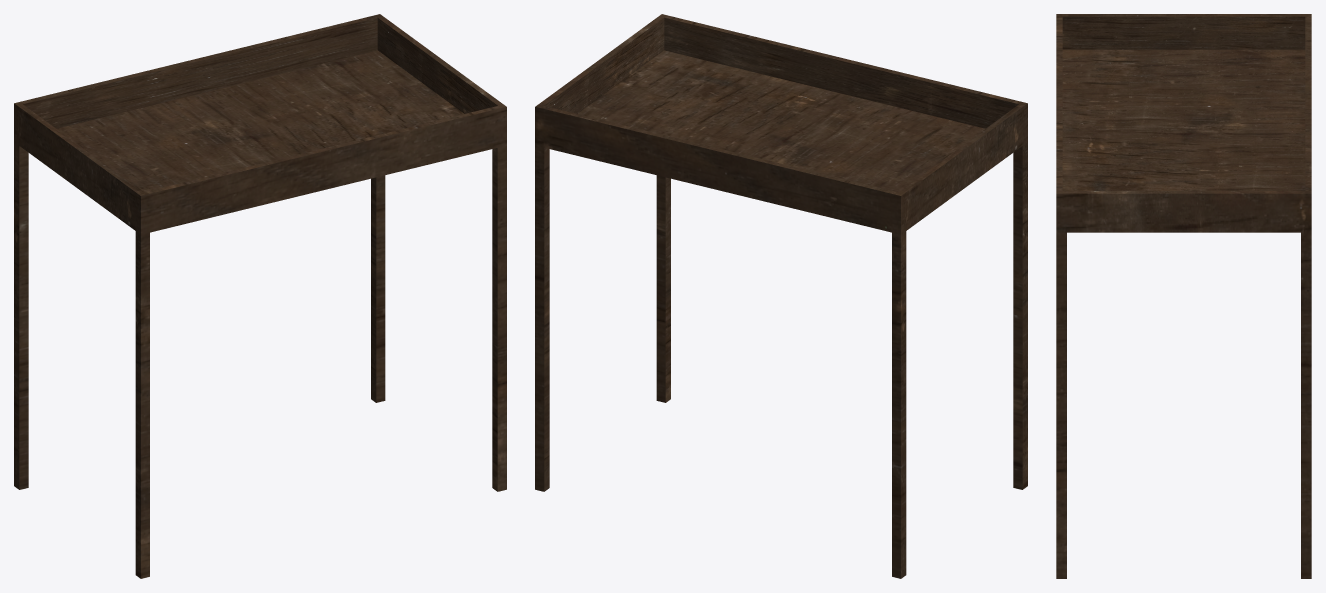
Rendered from tischregal_records.fbx.
The picture shows the model from 3 angles, left to right: view 1: azimuth 30°, elevation 25°; view 2: azimuth 150°, elevation 25°; view 3: azimuth 270°, elevation 25°; orthographic projection.
Visible parts, largest first — view 1: Cube.002; view 2: Cube.002; view 3: Cube.002.
Boxes of the visible parts, x1=… form: Cube.002: x1=14, y1=14, x2=506, y2=578; Cube.002: x1=535, y1=14, x2=1027, y2=578; Cube.002: x1=1056, y1=14, x2=1311, y2=578.
Size of the model in its own units: 200 by 200 by 120.
Materials: 1 (1 with a texture image).
